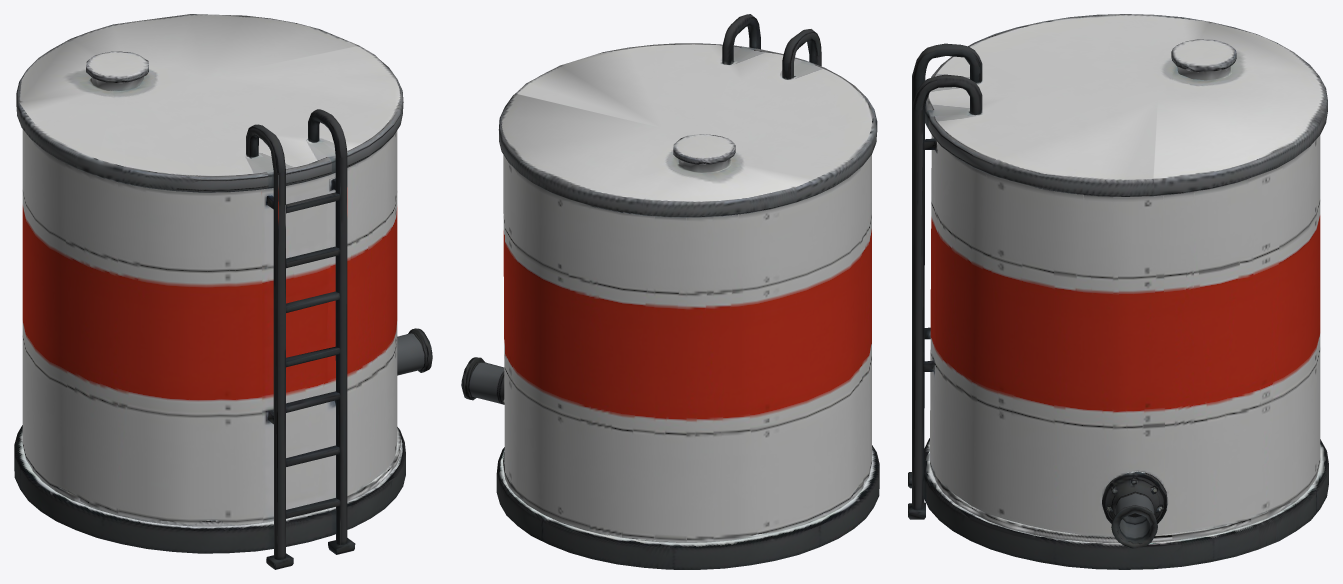
The model's file is tank.glb.
3 views of the same model, side by side, from view 1: azimuth 30°, elevation 25°; view 2: azimuth 150°, elevation 25°; view 3: azimuth 270°, elevation 25° (orthographic). The views are drawn at different scales.
Parts seen in each view (by area): view 1: tripo_node_43a6253e-7b86-4cde-b124-198229476385; view 2: tripo_node_43a6253e-7b86-4cde-b124-198229476385; view 3: tripo_node_43a6253e-7b86-4cde-b124-198229476385.
Part boxes in pixels (x1,y1,x2,y2): tripo_node_43a6253e-7b86-4cde-b124-198229476385: [14, 14, 432, 569]; tripo_node_43a6253e-7b86-4cde-b124-198229476385: [461, 14, 879, 569]; tripo_node_43a6253e-7b86-4cde-b124-198229476385: [908, 14, 1328, 569].
Size of the model in its own units: 7.59 by 8 by 6.94.
Materials: 1 (1 with a texture image).
